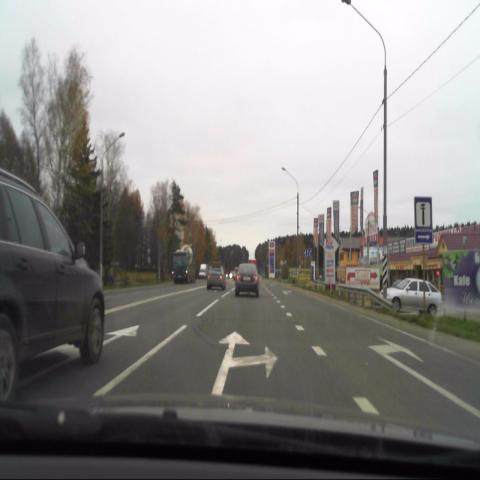5_7_1: (415, 231, 433, 243)
